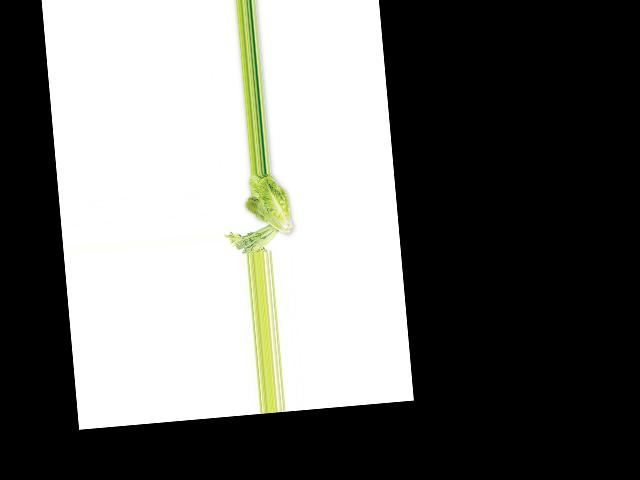lettuce: (237, 171, 292, 241)
